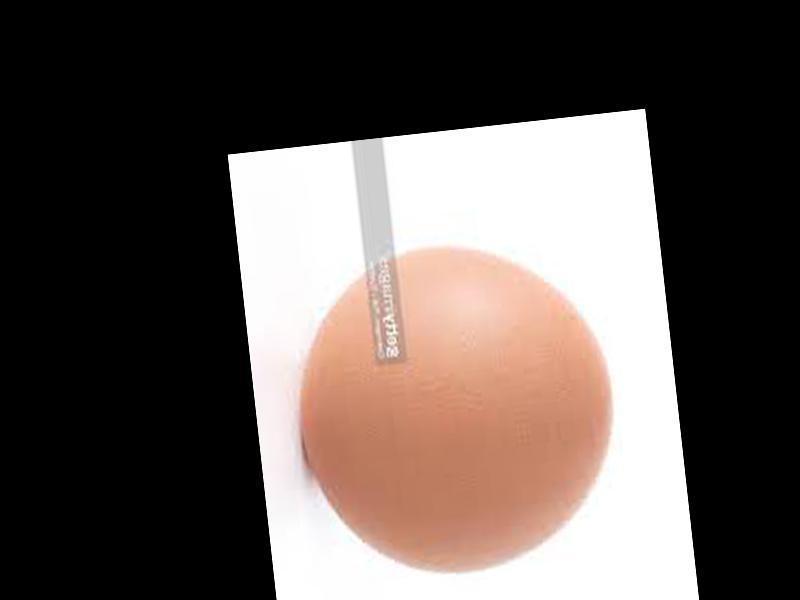Eggs: (289, 229, 629, 586)
